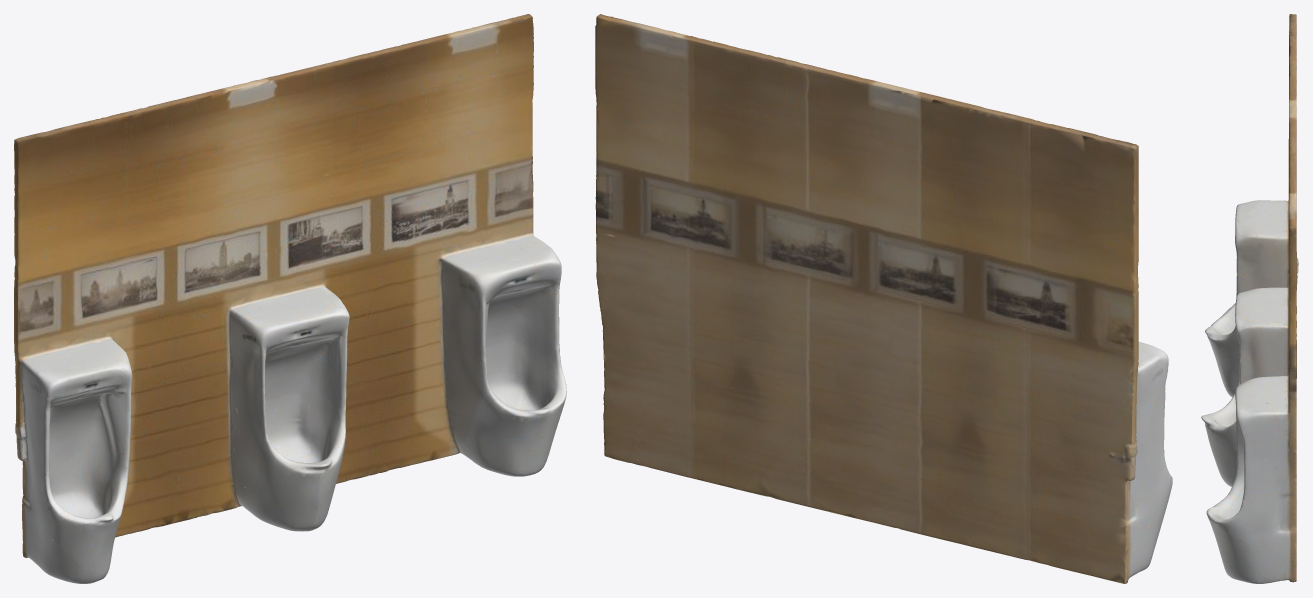
Rendered from urinals.glb.
3 views of the same model, side by side, from view 1: azimuth 30°, elevation 25°; view 2: azimuth 150°, elevation 25°; view 3: azimuth 270°, elevation 25° (orthographic). The views are drawn at different scales.
Parts seen in each view (by area): view 1: Mesh_0; view 2: Mesh_0; view 3: Mesh_0.
Boxes of the visible parts, left/top/right/bottom form: Mesh_0: left=14, top=14, right=566, bottom=583; Mesh_0: left=595, top=14, right=1172, bottom=583; Mesh_0: left=1201, top=14, right=1298, bottom=583.
Size of the model in its own units: 2 by 1.57 by 0.3825.
Materials: 1 (1 with a texture image).
